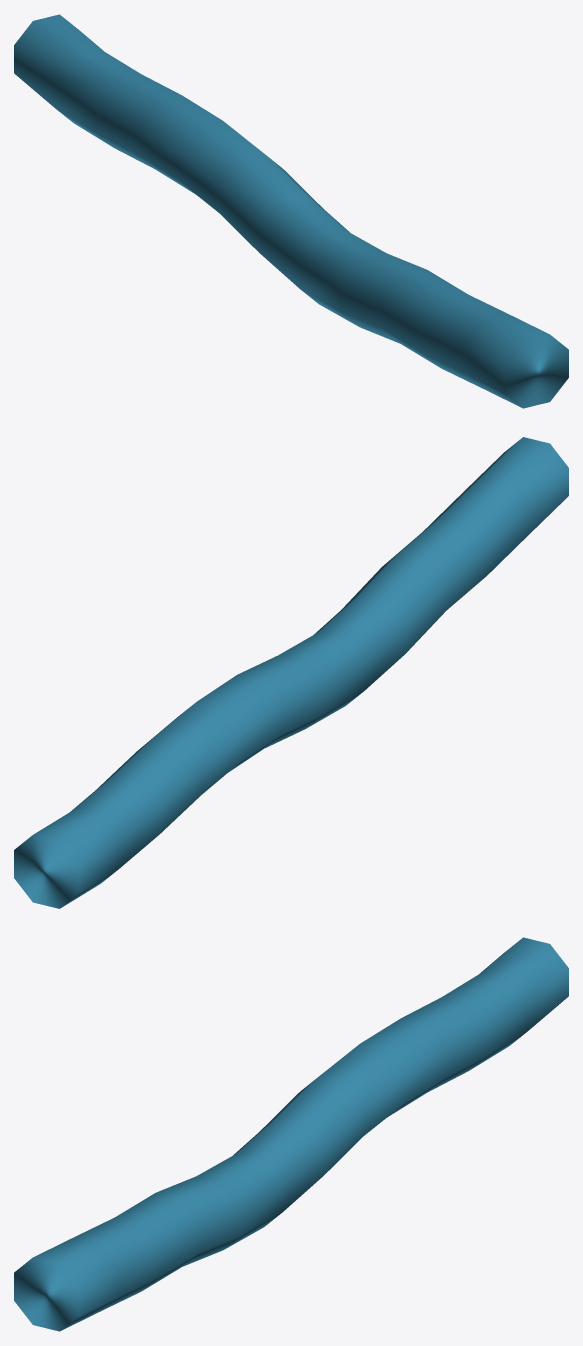
File: cable azul.fbx
3 views of the same model, one above another, from view 1: azimuth 30°, elevation 25°; view 2: azimuth 150°, elevation 25°; view 3: azimuth 330°, elevation 25° (orthographic).
Visible parts, largest first — view 1: Cylinder.002; view 2: Cylinder.002; view 3: Cylinder.002.
Boxes of the visible parts, x1,y1,x2,y2 form: Cylinder.002: [14, 14, 568, 408]; Cylinder.002: [14, 437, 568, 908]; Cylinder.002: [14, 937, 568, 1331].
Bounding box in the file's own units: 25.62 × 42.81 × 337.
